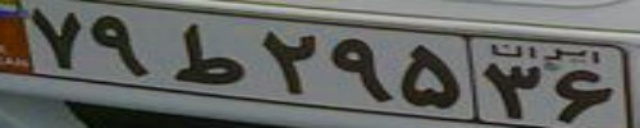2: (260, 33, 319, 96)
3: (481, 63, 542, 120)
5: (400, 43, 461, 109)
6: (554, 68, 614, 124)
7: (27, 9, 82, 72)
8: (87, 14, 153, 77)
9: (330, 37, 390, 103)
taa: (171, 22, 247, 85)
